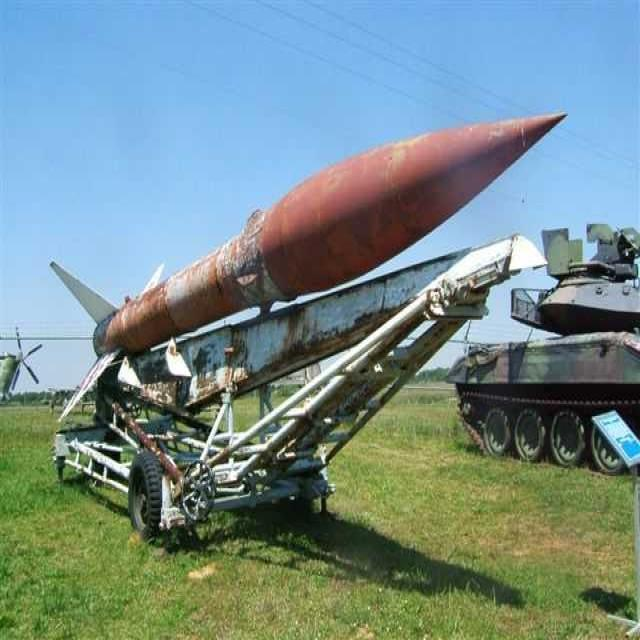missile: (51, 107, 568, 429)
